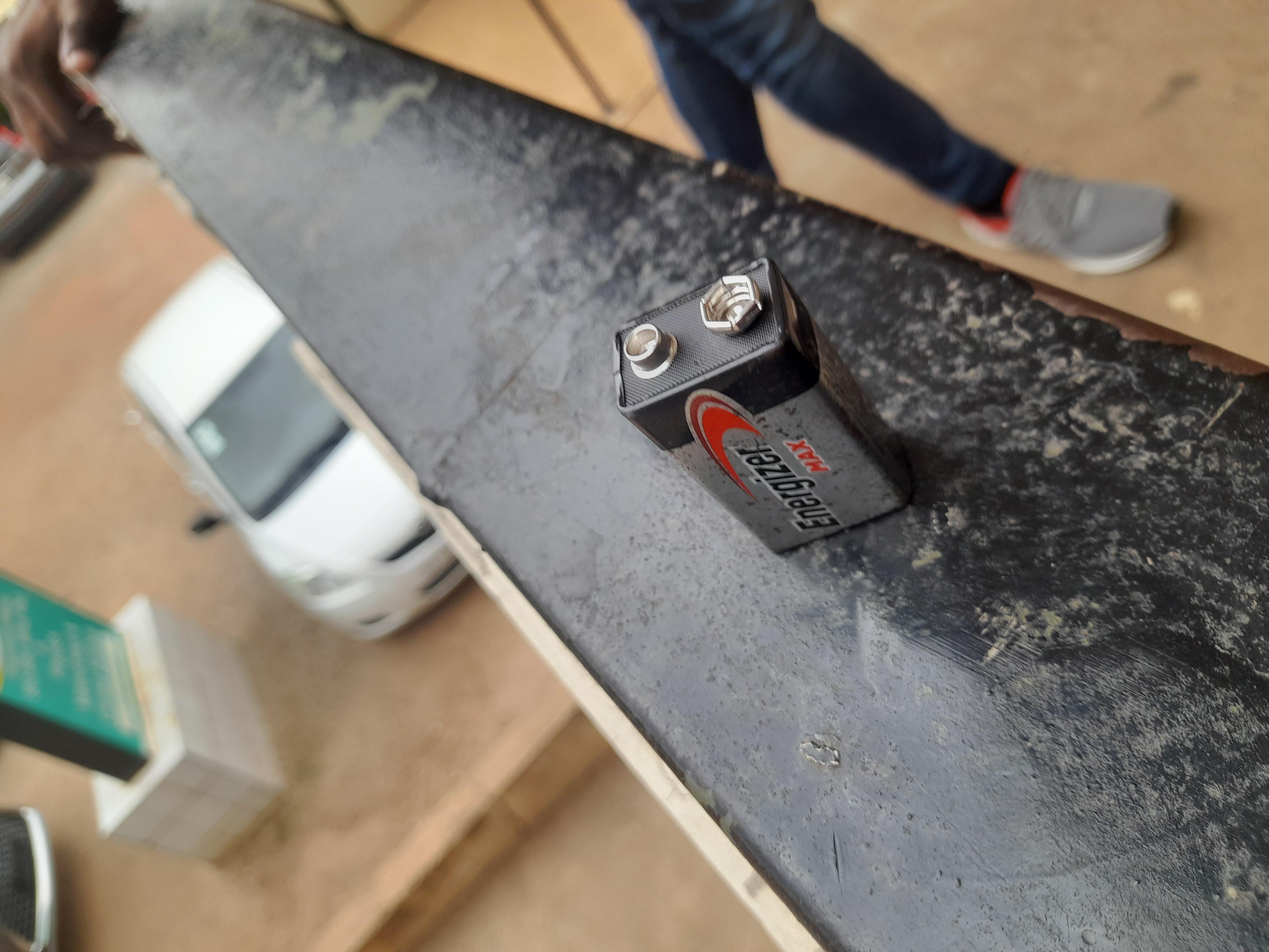9V: (504, 443, 941, 707)
